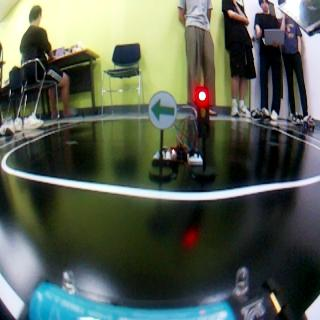left: (145, 94, 172, 125)
red: (196, 88, 209, 185)
